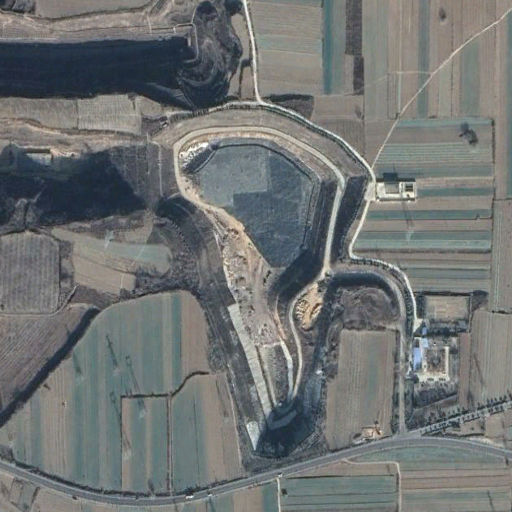lf: (175, 127, 340, 455)
